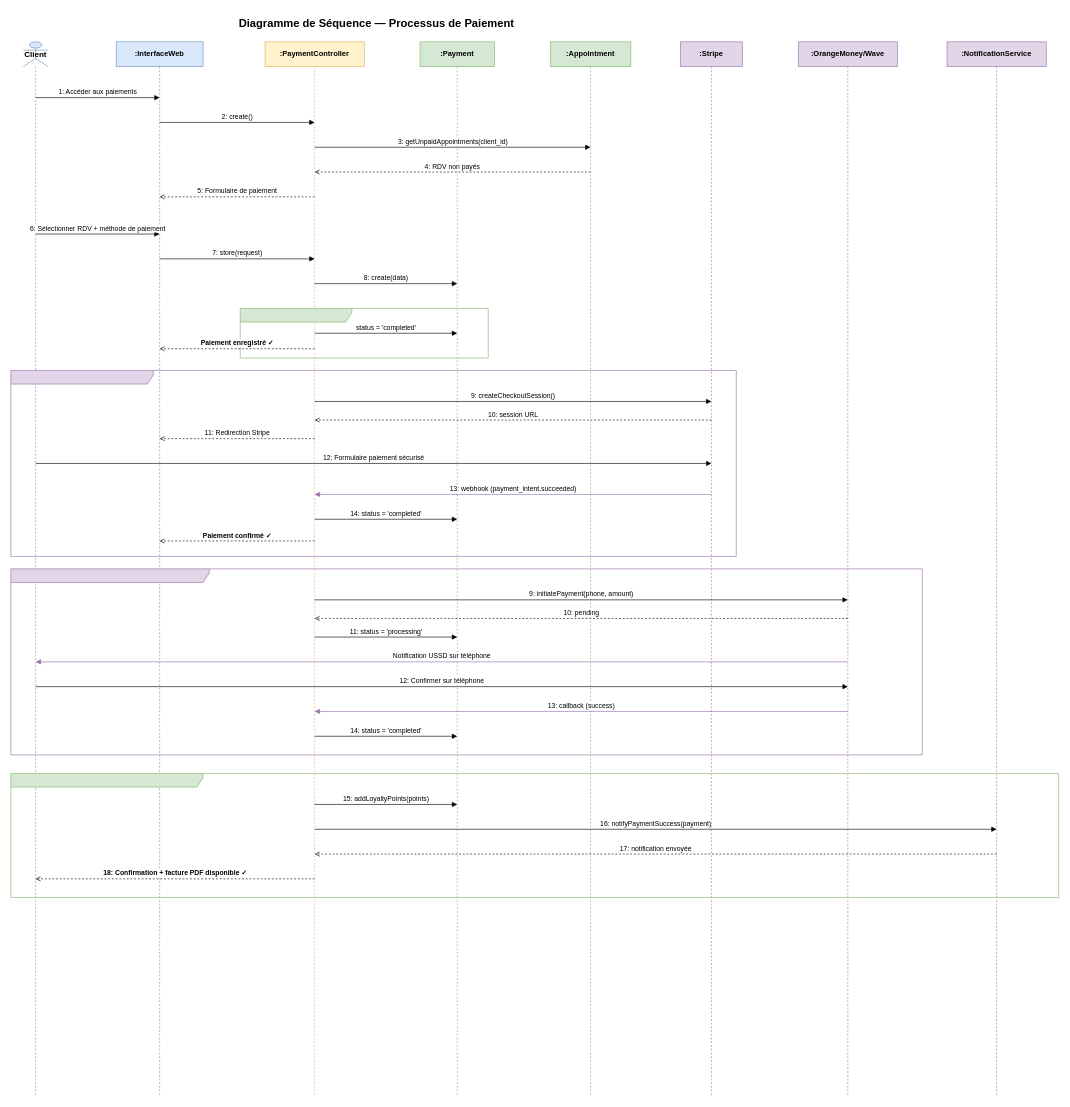
Image size: 1070x1107. Some labels were removed from this diagram. Here are the shapes that lost their labels. From the top down, the centre of each, then its label:
At point (364, 333): "alt [Espèces / Au salon]".
At point (373, 463): "alt [Carte Bancaire — Stripe]".
At point (466, 661): "alt [Mobile Money — Orange Money / Wave]".
At point (534, 835): "Après paiement réussi (toutes méthodes)".
